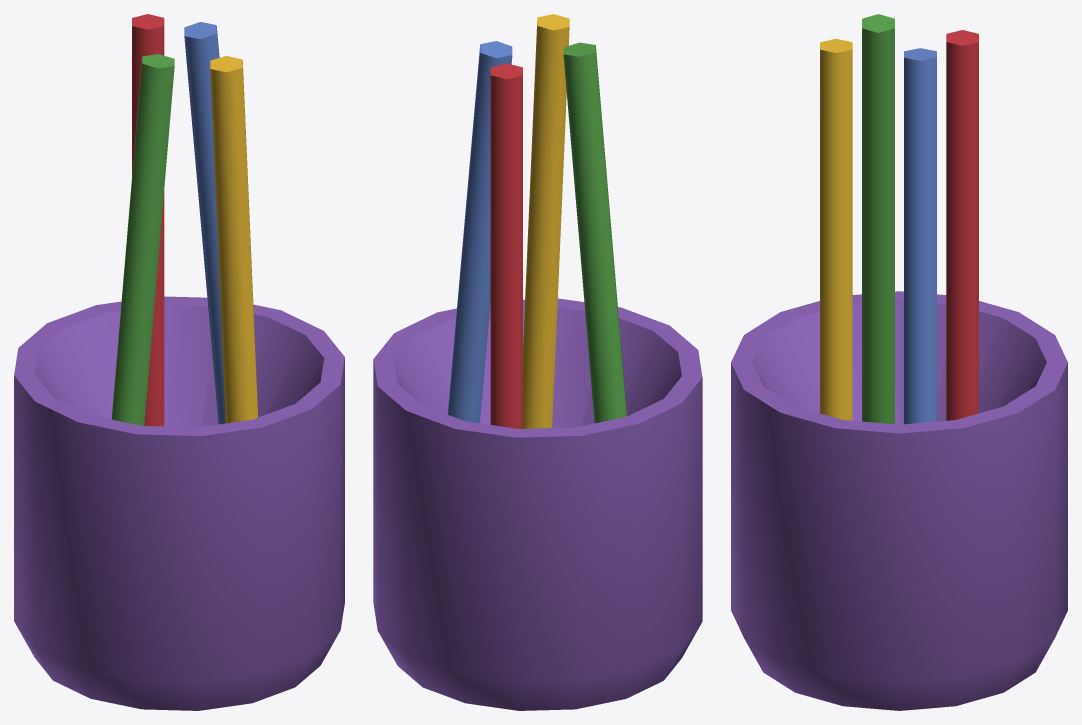
The model's file is pen_holder.glb.
The picture shows the model from 3 angles, left to right: view 1: azimuth 30°, elevation 25°; view 2: azimuth 150°, elevation 25°; view 3: azimuth 270°, elevation 25°; orthographic projection.
Visible parts, largest first — view 1: root; view 2: root; view 3: root.
Boxes of the visible parts, <box> form: root: <box>14,14,344,710</box>; root: <box>373,14,702,710</box>; root: <box>731,14,1067,710</box>.
Size of the model in its own units: 0.16 by 0.3203 by 0.16.
